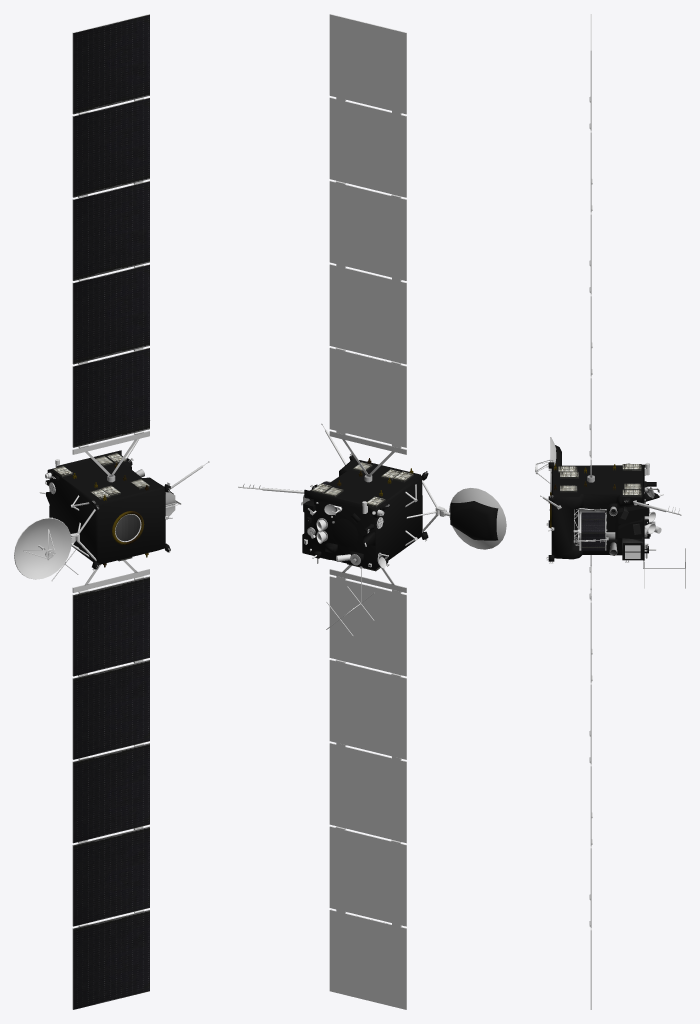
The model's file is rosetta.glb.
3 renders of one model, left to right at view 1: azimuth 30°, elevation 25°; view 2: azimuth 150°, elevation 25°; view 3: azimuth 270°, elevation 25°, orthographic.
Parts seen in each view (by area): view 1: panels_01, panels_02, black_krinkle, dish, vents, foil_silver, foil_gold; view 2: panels_01, panels_02, black_krinkle, dish, vents; view 3: black_krinkle, dish, black, panels_01, panels_02, vents.004, vents.
Part boxes in pixels (x1,y1,x2,y2): panels_01: (72,14,149,482); panels_02: (72,560,149,1009); black_krinkle: (45,450,170,569); dish: (14,420,209,581); vents: (52,453,149,561); foil_silver: (115,514,140,541); foil_gold: (72,462,148,567); panels_01: (329,14,406,482); panels_02: (329,565,406,1009); black_krinkle: (302,455,498,569); dish: (238,423,506,635); vents: (311,462,413,571); black_krinkle: (548,445,659,561); dish: (535,437,685,588); black: (609,504,649,560); panels_01: (587,14,594,482); panels_02: (589,555,592,1009); vents.004: (581,512,604,550); vents: (558,464,641,496).
Size of the model in its own units: 6.93 by 32 by 4.56.
Materials: 7 (5 with a texture image).
